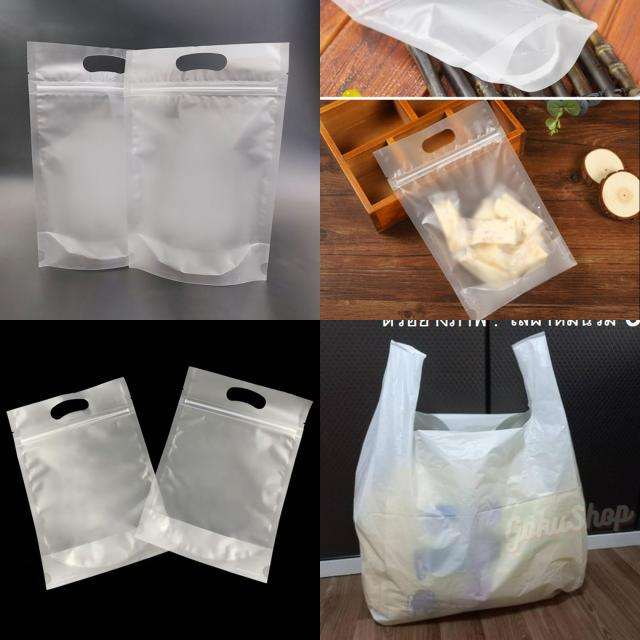Single-layer Plastic: (354, 332, 589, 625), (375, 101, 576, 319), (125, 44, 289, 285), (136, 368, 311, 582), (8, 378, 165, 589), (334, 0, 596, 91), (28, 42, 129, 270)
